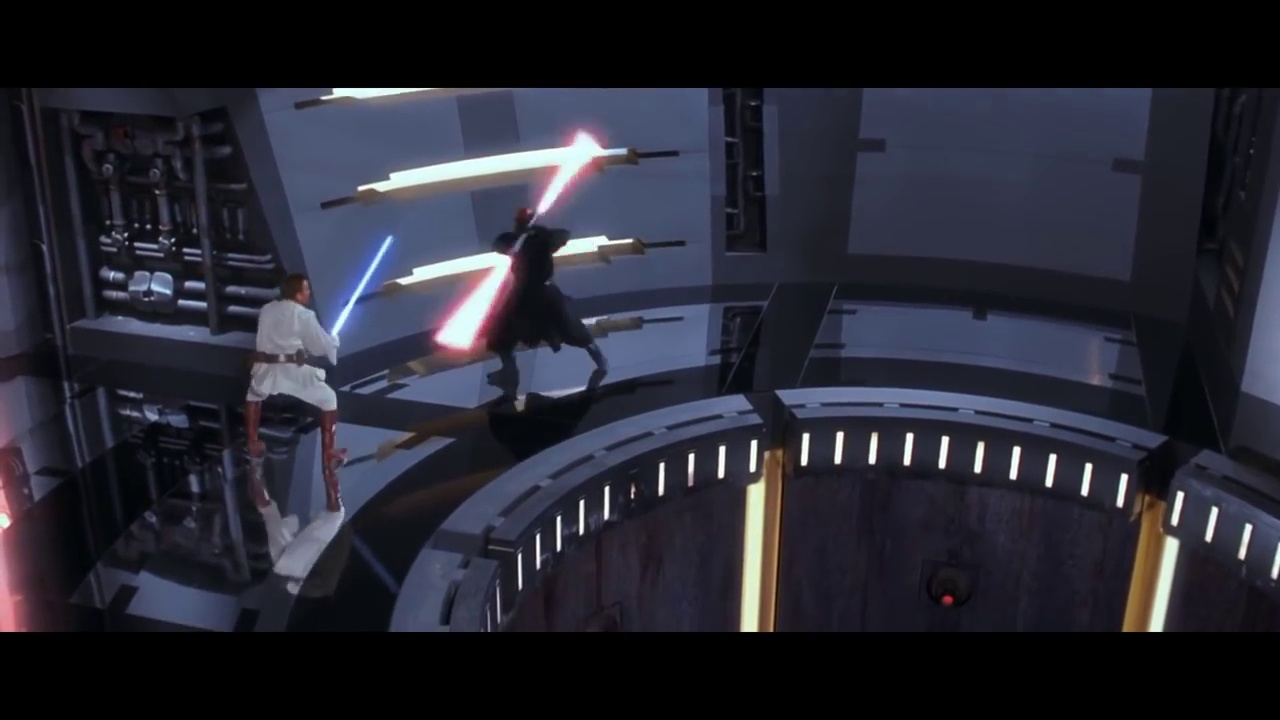lightsaber: (432, 232, 526, 353), (527, 123, 604, 234), (329, 235, 394, 341)
